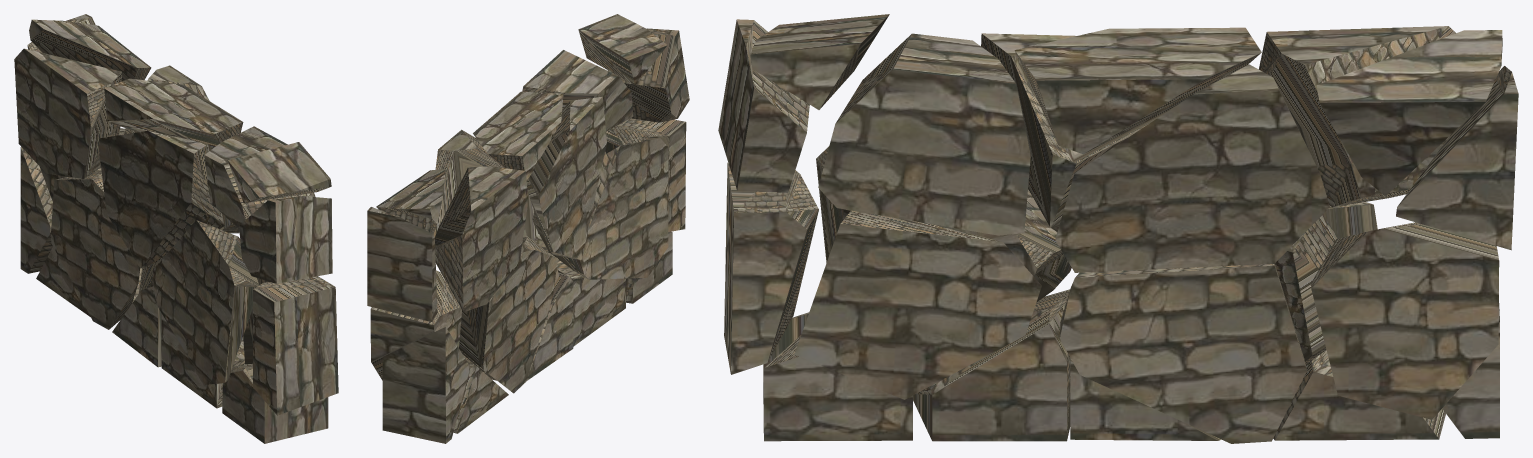
File: BreakWallSmall_000004.obj
3 renders of one model, left to right at view 1: azimuth 30°, elevation 25°; view 2: azimuth 150°, elevation 25°; view 3: azimuth 270°, elevation 25°, orthographic. The views are drawn at different scales.
Visible parts, largest first — view 1: Cube.002_cell.017_Cube.002_cell.016, Cube.002_cell.013_Cube.002_cell.012, Cube.002_cell.002_Cube.002_cell.001, Cube.002_cell.010_Cube.002_cell.009, Cube.002_cell.012_Cube.002_cell.011, Cube.002_cell.007_Cube.002_cell.006, Cube.002_cell.009_Cube.002_cell.008, Cube.002_cell.019_Cube.002_cell.018, Cube.002_cell.011_Cube.002_cell.010, Cube.002_cell.001_Cube.002_cell.000, Cube.002_cell.004_Cube.002_cell.003, Cube.002_cell.018_Cube.002_cell.017 (+6 smaller); view 2: Cube.002_cell.013_Cube.002_cell.012, Cube.002_cell.010_Cube.002_cell.009, Cube.002_cell.017_Cube.002_cell.016, Cube.002_cell.012_Cube.002_cell.011, Cube.002_cell.018_Cube.002_cell.017, Cube.002_cell.005_Cube.002_cell.004, Cube.002_cell.009_Cube.002_cell.008, Cube.002_cell.004_Cube.002_cell.003, Cube.002_cell.019_Cube.002_cell.018, Cube.002_cell.007_Cube.002_cell.006, Cube.002_cell.014_Cube.002_cell.013, Cube.002_cell.002_Cube.002_cell.001 (+8 smaller); view 3: Cube.002_cell.003_Cube.002_cell.002, Cube.002_cell.015_Cube.002_cell.014, Cube.002_cell.004_Cube.002_cell.003, Cube.002_cell.016_Cube.002_cell.015, Cube.002_cell.014_Cube.002_cell.013, Cube.002_cell.009_Cube.002_cell.008, Cube.002_cell.001_Cube.002_cell.000, Cube.002_cell.008_Cube.002_cell.007, Cube.002_cell.002_Cube.002_cell.001, Cube.002_cell.010_Cube.002_cell.009, Cube.002_cell.005_Cube.002_cell.004, Cube.002_cell.011_Cube.002_cell.010 (+8 smaller).
Boxes of the visible parts, x1=… form: Cube.002_cell.017_Cube.002_cell.016: x1=99, y1=130, x2=225, y2=268; Cube.002_cell.013_Cube.002_cell.012: x1=152, y1=220, x2=258, y2=384; Cube.002_cell.002_Cube.002_cell.001: x1=253, y1=276, x2=338, y2=415; Cube.002_cell.010_Cube.002_cell.009: x1=14, y1=48, x2=121, y2=178; Cube.002_cell.012_Cube.002_cell.011: x1=50, y1=170, x2=139, y2=329; Cube.002_cell.007_Cube.002_cell.006: x1=239, y1=196, x2=332, y2=283; Cube.002_cell.009_Cube.002_cell.008: x1=104, y1=78, x2=243, y2=148; Cube.002_cell.019_Cube.002_cell.018: x1=228, y1=142, x2=331, y2=203; Cube.002_cell.011_Cube.002_cell.010: x1=222, y1=364, x2=328, y2=443; Cube.002_cell.001_Cube.002_cell.000: x1=29, y1=19, x2=151, y2=81; Cube.002_cell.004_Cube.002_cell.003: x1=204, y1=126, x2=315, y2=228; Cube.002_cell.018_Cube.002_cell.017: x1=20, y1=147, x2=52, y2=273; Cube.002_cell.013_Cube.002_cell.012: x1=532, y1=138, x2=668, y2=279; Cube.002_cell.010_Cube.002_cell.009: x1=435, y1=166, x2=527, y2=312; Cube.002_cell.017_Cube.002_cell.016: x1=526, y1=96, x2=606, y2=259; Cube.002_cell.012_Cube.002_cell.011: x1=459, y1=249, x2=557, y2=393; Cube.002_cell.018_Cube.002_cell.017: x1=382, y1=327, x2=469, y2=443; Cube.002_cell.005_Cube.002_cell.004: x1=367, y1=207, x2=437, y2=321; Cube.002_cell.009_Cube.002_cell.008: x1=473, y1=91, x2=563, y2=181; Cube.002_cell.004_Cube.002_cell.003: x1=522, y1=50, x2=633, y2=131; Cube.002_cell.019_Cube.002_cell.018: x1=578, y1=14, x2=667, y2=85; Cube.002_cell.007_Cube.002_cell.006: x1=607, y1=28, x2=689, y2=122; Cube.002_cell.014_Cube.002_cell.013: x1=370, y1=270, x2=461, y2=380; Cube.002_cell.002_Cube.002_cell.001: x1=605, y1=118, x2=686, y2=231; Cube.002_cell.003_Cube.002_cell.002: x1=1055, y1=64, x2=1329, y2=272; Cube.002_cell.015_Cube.002_cell.014: x1=1060, y1=264, x2=1306, y2=443; Cube.002_cell.004_Cube.002_cell.003: x1=818, y1=33, x2=1030, y2=235; Cube.002_cell.016_Cube.002_cell.015: x1=794, y1=210, x2=1041, y2=399; Cube.002_cell.014_Cube.002_cell.013: x1=1310, y1=222, x2=1499, y2=419; Cube.002_cell.009_Cube.002_cell.008: x1=1014, y1=27, x2=1261, y2=154; Cube.002_cell.001_Cube.002_cell.000: x1=1316, y1=30, x2=1502, y2=195; Cube.002_cell.008_Cube.002_cell.007: x1=913, y1=289, x2=1070, y2=441; Cube.002_cell.002_Cube.002_cell.001: x1=724, y1=162, x2=818, y2=374; Cube.002_cell.010_Cube.002_cell.009: x1=1258, y1=26, x2=1455, y2=207; Cube.002_cell.005_Cube.002_cell.004: x1=1396, y1=66, x2=1518, y2=250; Cube.002_cell.011_Cube.002_cell.010: x1=763, y1=312, x2=912, y2=441.
Bounding box in the file's own units: 6.17 × 15.73 × 28.57.
Materials: 2 (2 with a texture image).
